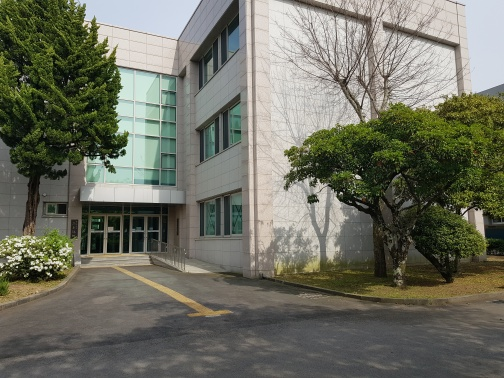College of Nursing: (81, 13, 440, 268)
